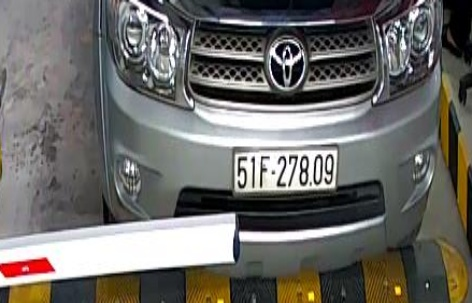plate: (234, 148, 340, 195)
